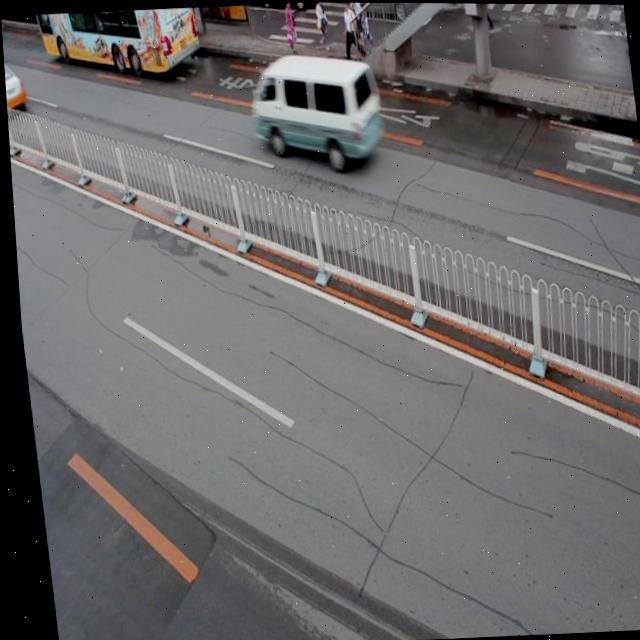car: (3, 59, 27, 116)
truck: (243, 50, 385, 166)
van: (35, 7, 202, 79)
